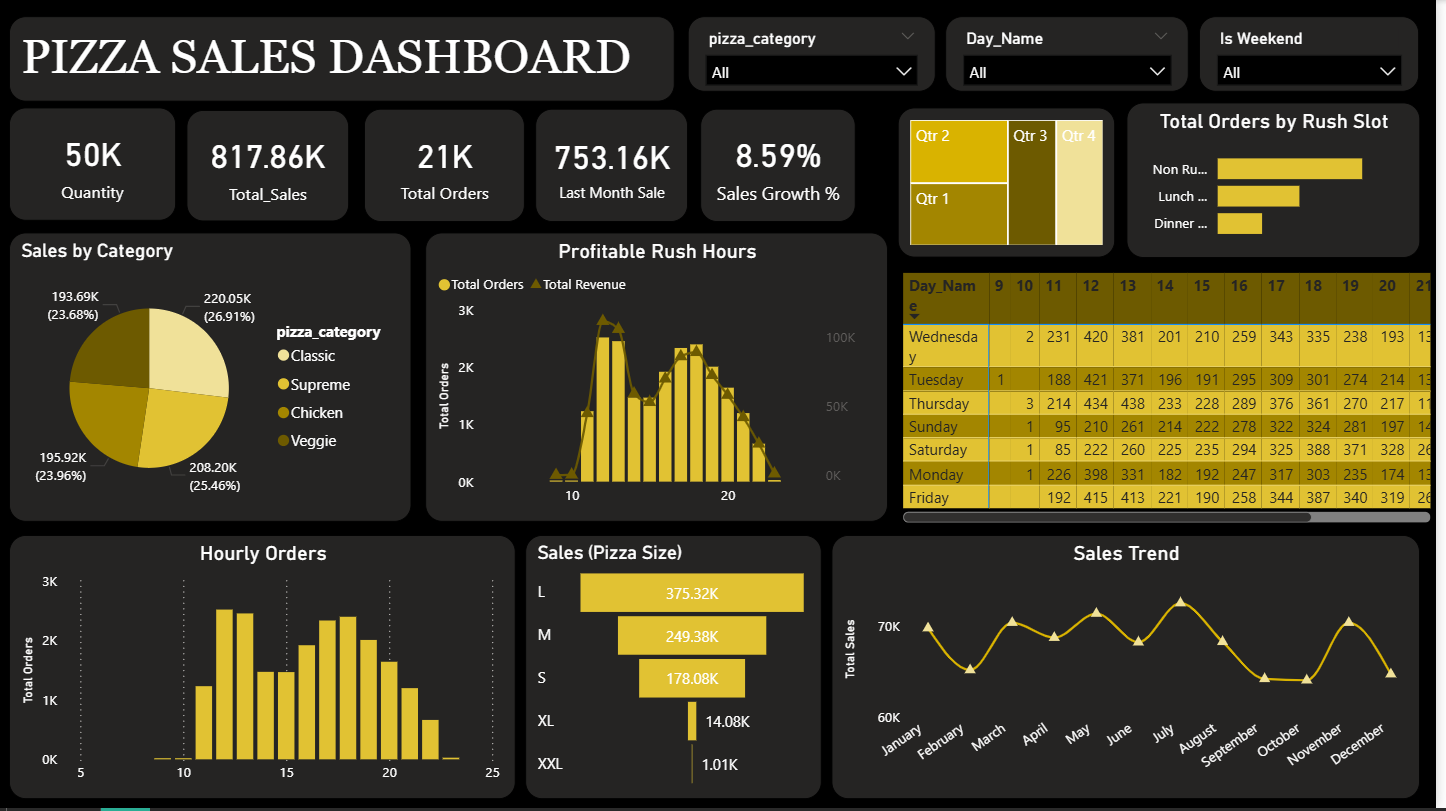

The page's visual inventory and layout, read from the dashboard file:
{"tool":"powerbi","page":{"name":"Page 1","canvas":[1280,720],"ordinal":0},"visuals":[{"type":"textbox","box":[8.6,14.7,592.6,76.1],"z":0},{"type":"lineChart","title":"Sales Trend","fields":{"Category":["Date Table.Date.Variation.Date Hierarchy.Month"],"Y":["pizza_sales.Total Revenue"]},"box":[741.1,476.1,523.9,235.6],"z":1000},{"type":"treemap","fields":{"Group":["Date Table.Date.Variation.Date Hierarchy.Quarter"],"Values":["pizza_sales.Total Revenue"]},"box":[800,95.7,193.9,133.7],"z":2000},{"type":"pieChart","title":"Sales by Category","fields":{"Category":["pizza_sales.pizza_category"],"Y":["Sum(pizza_sales.total_price)"]},"box":[18.4,207.4,348.5,257.7],"z":3000},{"type":"card","fields":{"Values":["Sum(pizza_sales.total_price)"]},"box":[166.9,98.2,144.8,99.4],"z":4000},{"type":"card","fields":{"Values":["Sum(pizza_sales.quantity)"]},"box":[8.6,95.7,148.5,100.6],"z":5000},{"type":"card","fields":{"Values":["pizza_sales.Total Orders"]},"box":[325.2,96.9,143.6,100.6],"z":6000},{"type":"funnel","title":"Sales (Pizza Size)","fields":{"Y":["Sum(pizza_sales.total_price)"],"Category":["pizza_sales.pizza_size"]},"box":[477.3,476.1,246.6,235.6],"z":7000},{"type":"slicer","title":"Pizza Size","fields":{"Values":["pizza_sales.pizza_category"]},"box":[613.5,14.7,220.9,67.5],"z":8000},{"type":"pivotTable","fields":{"Rows":["pizza_sales.Day_Name"],"Columns":["pizza_sales.Hour"],"Values":["pizza_sales.Total Orders"]},"box":[800,238,479.8,231.9],"z":9000},{"type":"columnChart","title":"Hourly Orders","fields":{"Category":["pizza_sales.Hour"],"Y":["pizza_sales.Total Orders"]},"box":[18.4,476.1,441.7,235.6],"z":10000},{"type":"lineStackedColumnComboChart","title":"Profitable Rush Hours","fields":{"Category":["pizza_sales.Hour"],"Y":["pizza_sales.Total Orders"],"Y2":["pizza_sales.Total Revenue"]},"box":[379.1,207.4,412.3,257.7],"z":11000},{"type":"barChart","fields":{"Category":["pizza_sales.Run Slot"],"Y":["pizza_sales.Total Orders"]},"box":[1003.7,90.8,261.4,138.7],"z":12000},{"type":"slicer","title":"Pizza Size","fields":{"Values":["pizza_sales.Day_Name"]},"box":[842.9,14.7,217.2,67.5],"z":13000},{"type":"slicer","title":"Pizza Size","fields":{"Values":["pizza_sales.Is Weekend"]},"box":[1068.7,14.7,196.3,67.5],"z":14000},{"type":"card","fields":{"Values":["Date Table.Sales Growth %"]},"box":[624.5,96.9,138.7,100.6],"z":14001},{"type":"card","fields":{"Values":["Date Table.Previous Month Revenue"]},"box":[477.3,96.9,136.2,100.6],"z":14002}]}

Visuals, with their boxes in screenshot pixels (x1, y1, x2, y2), scaled from the page's 1280x720 canvas onto the 1446x811 screenshot:
textbox: bbox=(10, 17, 679, 102)
"Sales Trend" lineChart: bbox=(837, 536, 1429, 802)
treemap - Date Table.Date.Variation.Date Hierarchy.Quarter x pizza_sales.Total Revenue: bbox=(904, 108, 1123, 258)
"Sales by Category" pieChart: bbox=(21, 234, 414, 524)
card - Sum(pizza_sales.total_price): bbox=(189, 111, 352, 223)
card - Sum(pizza_sales.quantity): bbox=(10, 108, 177, 221)
card - pizza_sales.Total Orders: bbox=(367, 109, 530, 222)
"Sales (Pizza Size)" funnel: bbox=(539, 536, 818, 802)
"Pizza Size" slicer: bbox=(693, 17, 943, 93)
pivotTable - pizza_sales.Day_Name x pizza_sales.Hour: bbox=(904, 268, 1445, 529)
"Hourly Orders" columnChart: bbox=(21, 536, 520, 802)
"Profitable Rush Hours" lineStackedColumnComboChart: bbox=(428, 234, 894, 524)
barChart - pizza_sales.Run Slot x pizza_sales.Total Orders: bbox=(1134, 102, 1429, 259)
"Pizza Size" slicer: bbox=(952, 17, 1198, 93)
"Pizza Size" slicer: bbox=(1207, 17, 1429, 93)
card - Date Table.Sales Growth %: bbox=(705, 109, 862, 222)
card - Date Table.Previous Month Revenue: bbox=(539, 109, 693, 222)
